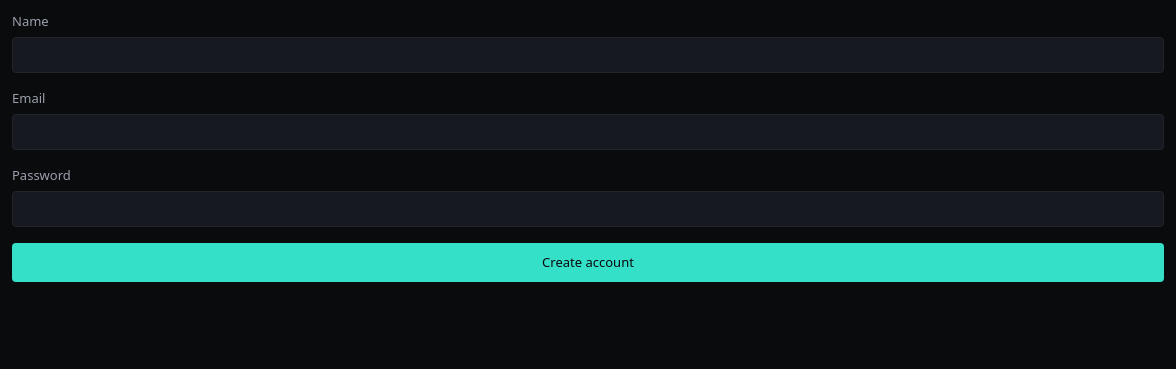
Scenario: AuthForm › clears a field error once the field is edited
Click the button "Create account" at coordinates (588, 263), box [12,243,1164,282]
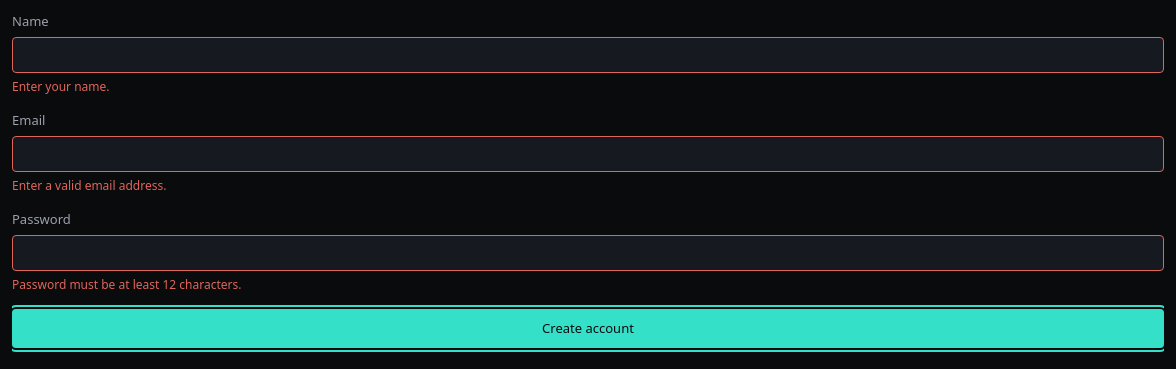
Result: the text "Enter your name." is shown at [12,78,110,95]
Type "A" into the field labelled "Name" at coordinates (588, 55), box [12,37,1164,73]
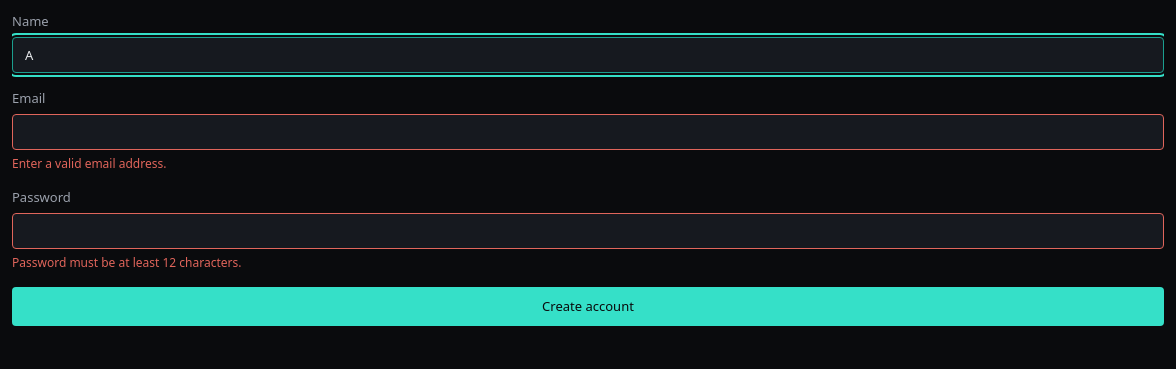
Result: the text "Enter your name." is gone
